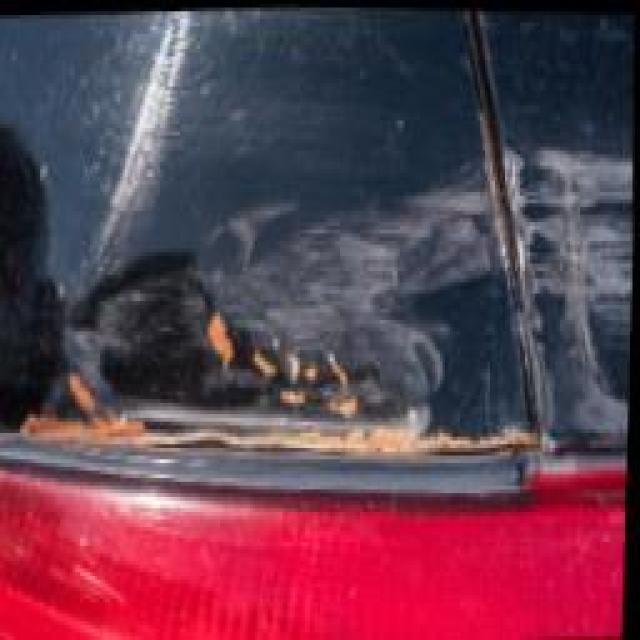Dickey: (0, 8, 510, 480)
Fender: (522, 8, 640, 427)
